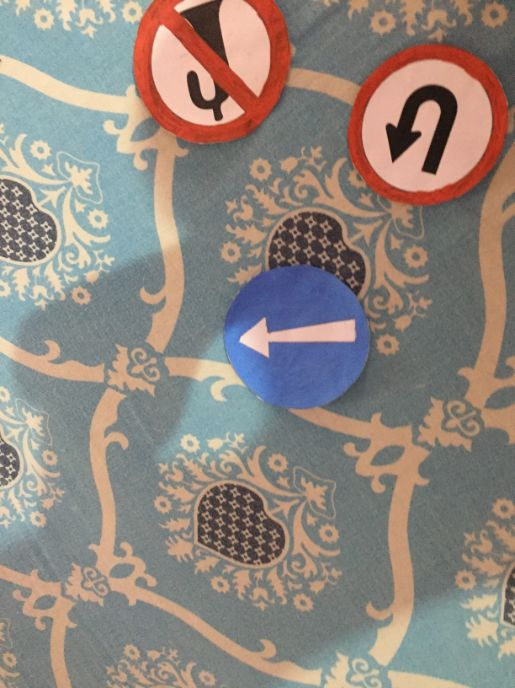keep-left: (226, 266, 370, 413)
no-horn: (130, 1, 286, 145)
u-turn: (348, 33, 508, 206)
